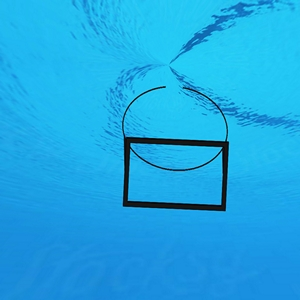circle: (121, 84, 232, 217)
